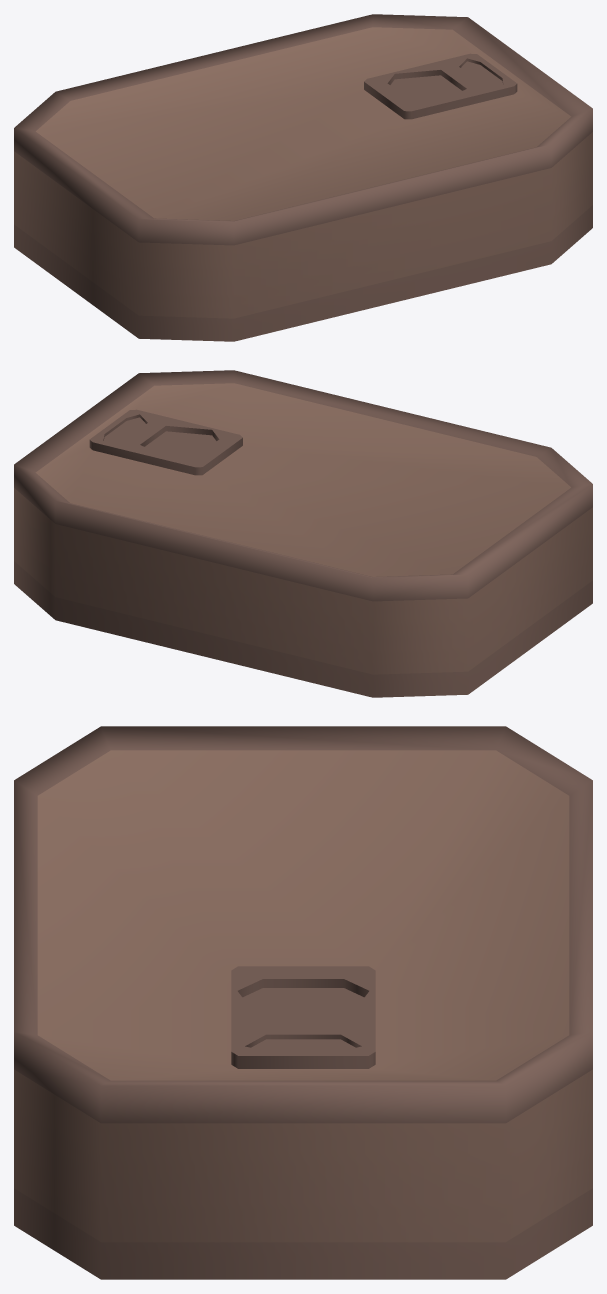
The model's file is can_food_square_brown.fbx.
3 views of the same model, one above another, from view 1: azimuth 30°, elevation 25°; view 2: azimuth 150°, elevation 25°; view 3: azimuth 270°, elevation 25° (orthographic). The views are drawn at different scales.
Visible parts, largest first — view 1: can_food_square_brown; view 2: can_food_square_brown; view 3: can_food_square_brown.
Part boxes in pixels (x1,y1,x2,y2): can_food_square_brown: (14,14,592,341); can_food_square_brown: (14,370,592,697); can_food_square_brown: (14,726,592,1279).
Bounding box in the file's own units: 80.81 × 20.69 × 54.99.
